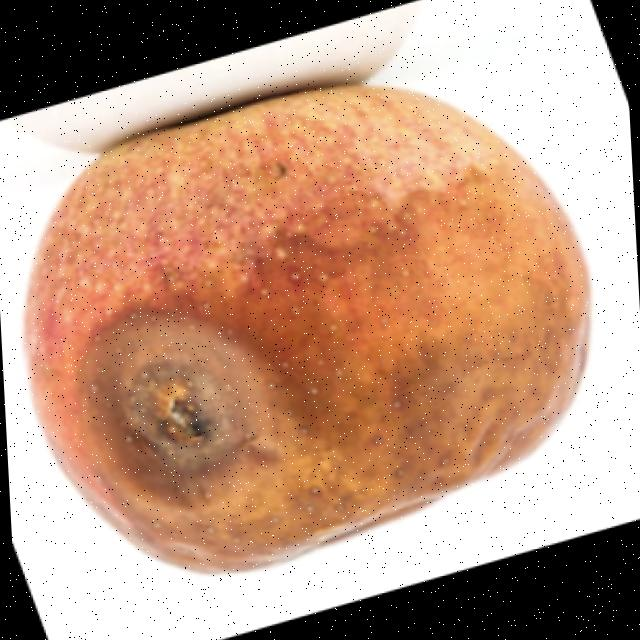Rotten: (5, 67, 608, 588)
